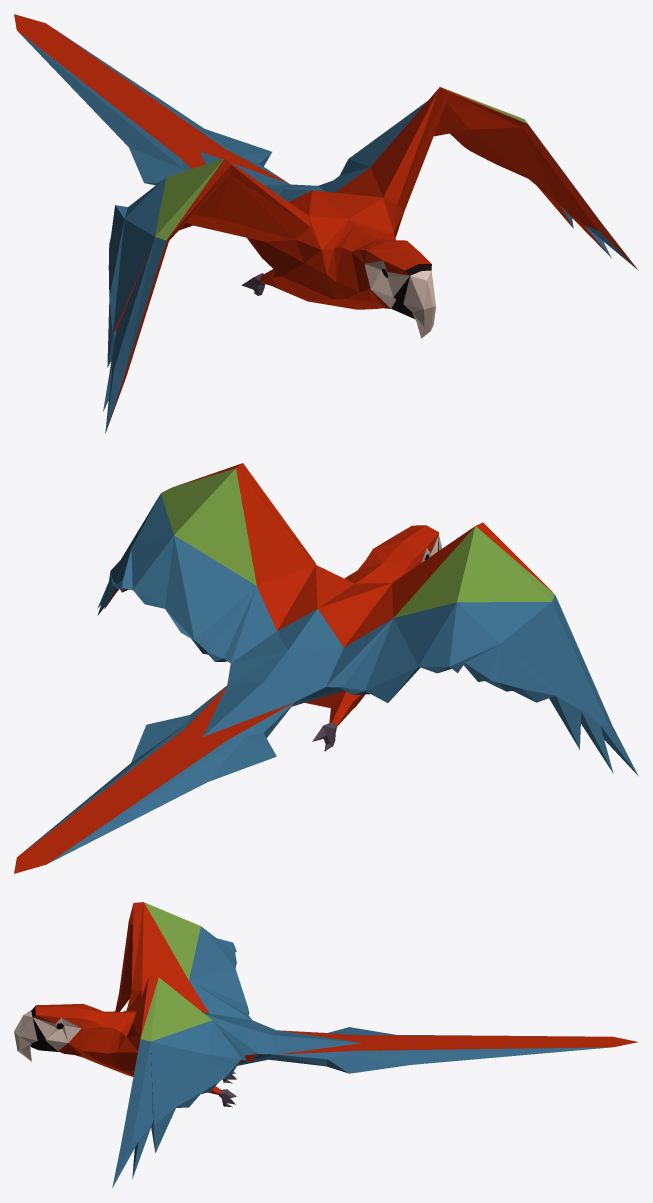
Rendered from Parrot_v1_beak_big.glb.
The picture shows the model from 3 angles, top to bottom: view 1: azimuth 30°, elevation 25°; view 2: azimuth 150°, elevation 25°; view 3: azimuth 270°, elevation 25°; orthographic projection. The views are drawn at different scales.
Bounding box in the file's own units: 79.5 × 33.7 × 108.
